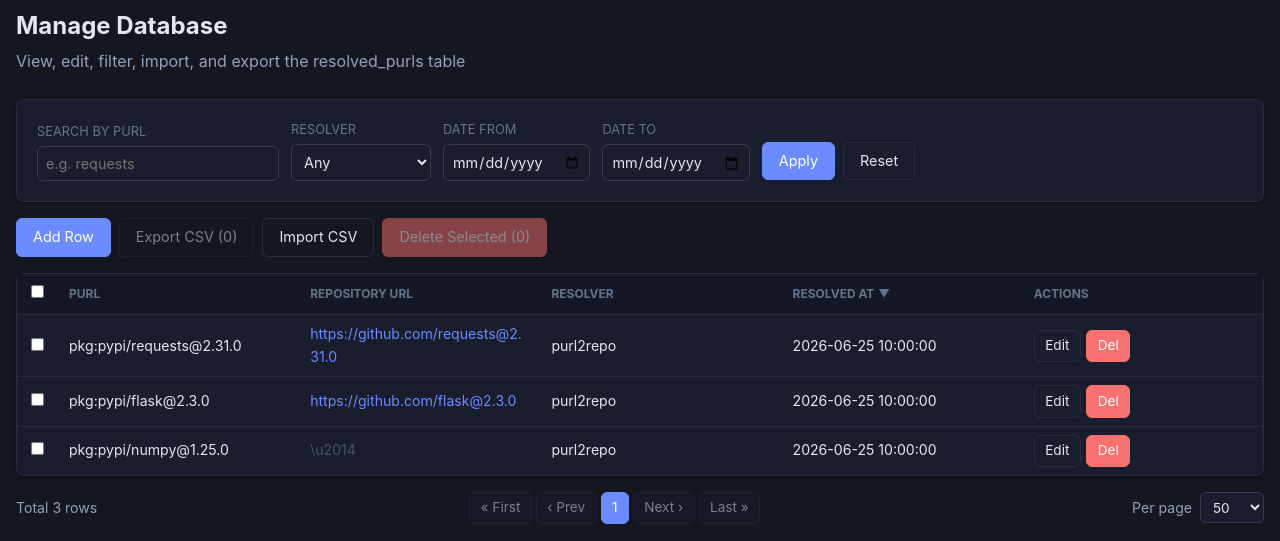
Test case: DatabaseAdmin.vue › toggles individual row selection
Click the checkbox next to "pkg:pypi/requests@2.31.0".
click(37, 344)  # box [30,338,44,351]
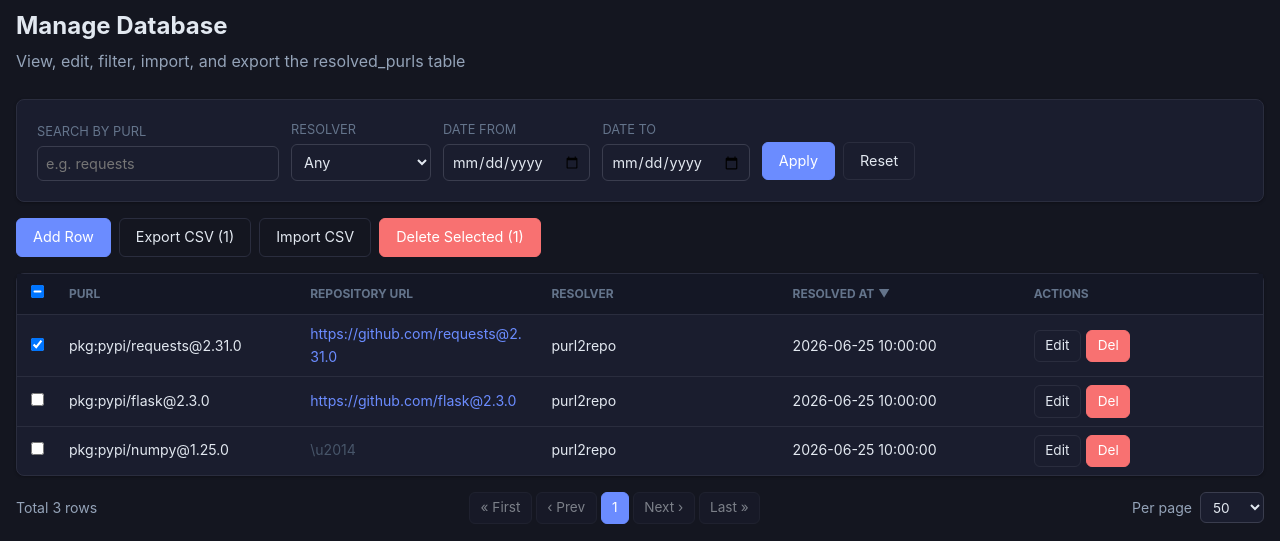
Result: the button "Export CSV (1)" is shown at [119,218,251,257]
